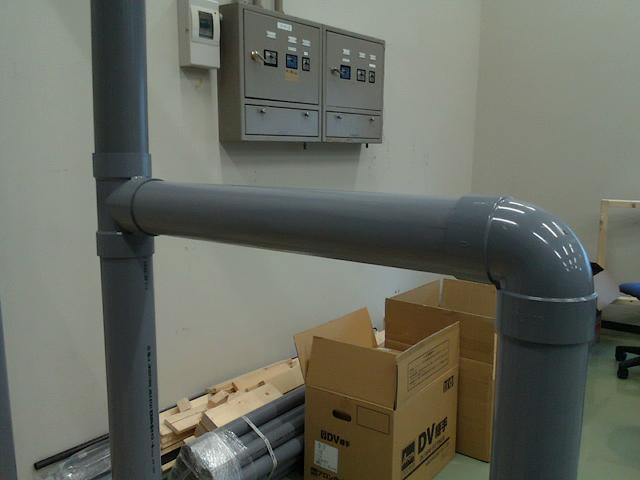bent: (445, 194, 597, 345)
junction: (90, 152, 163, 258)
